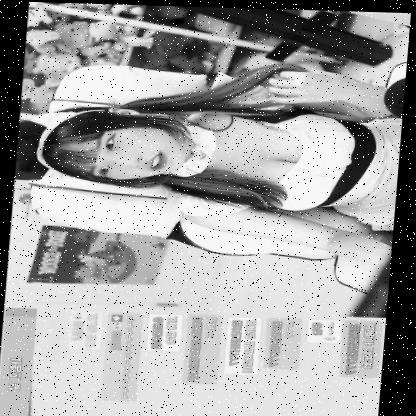streamer: (13, 58, 407, 265)
